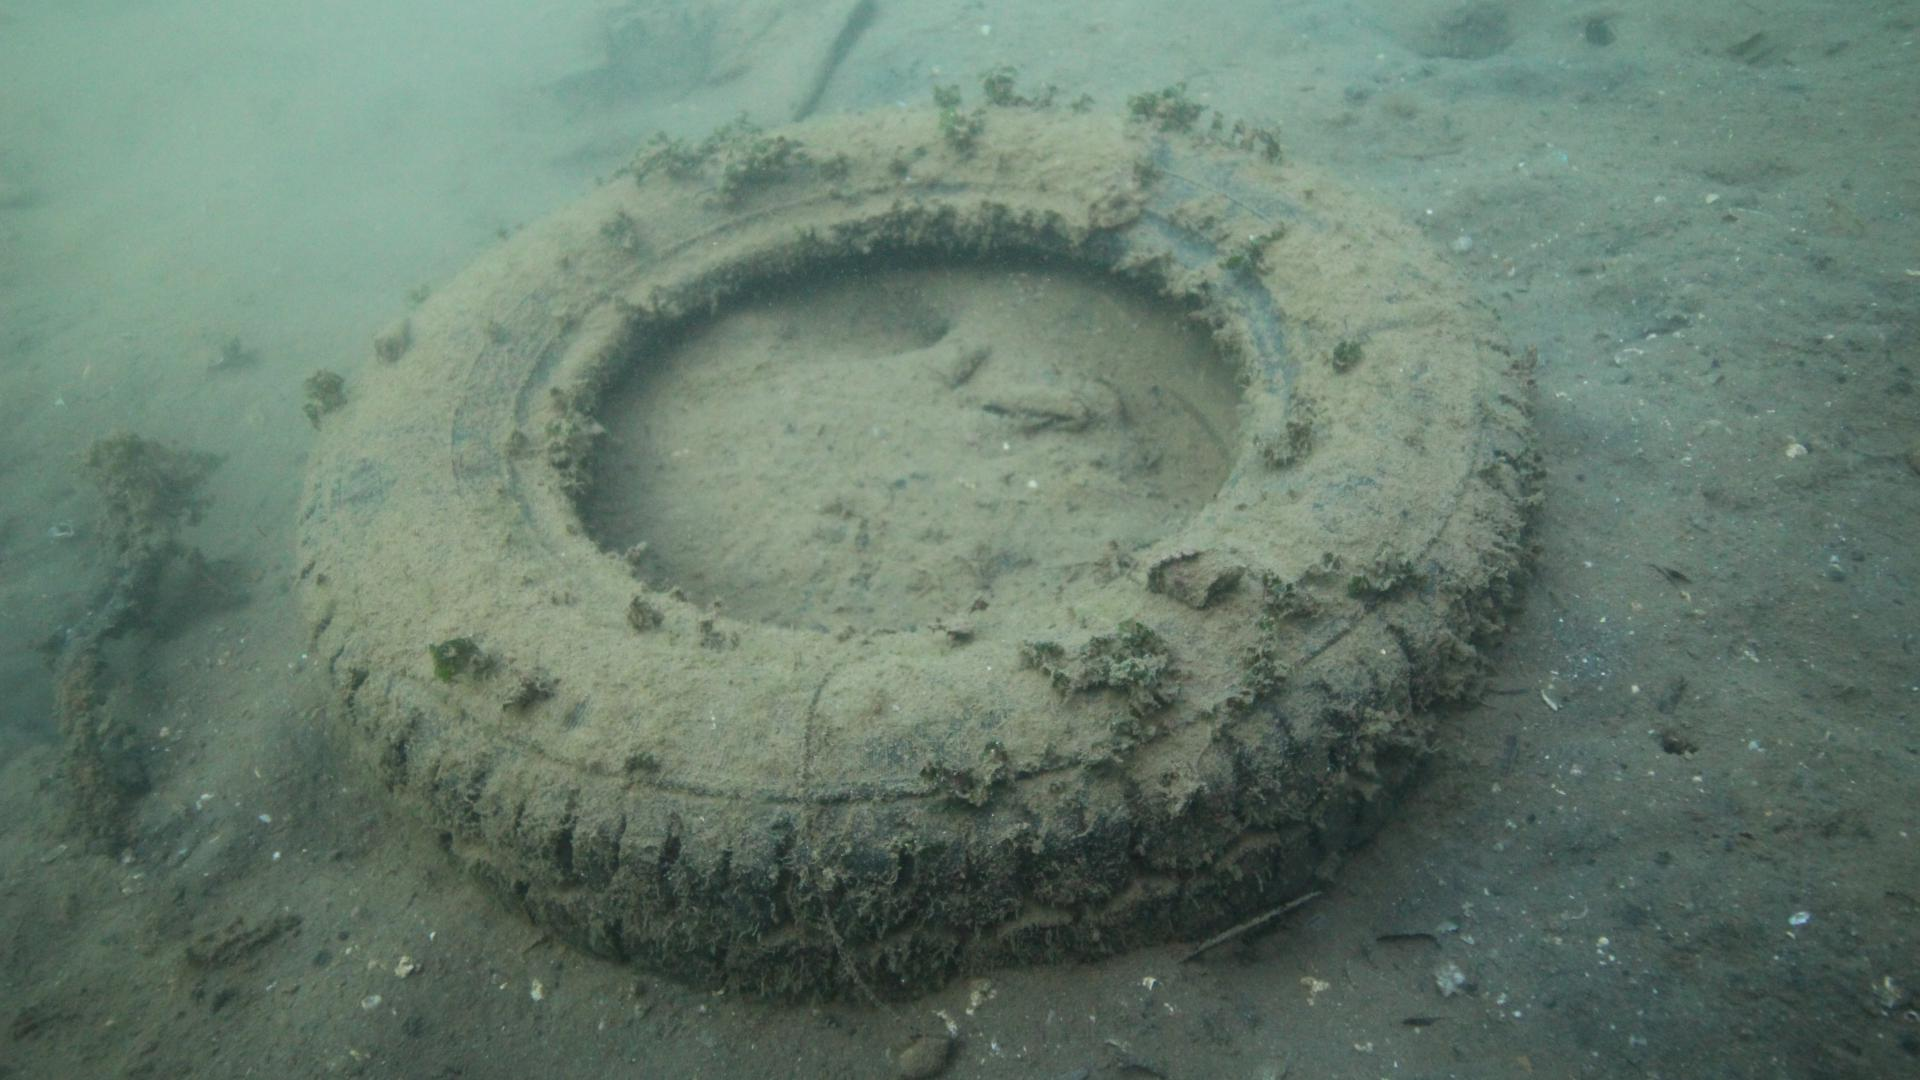tire: (291, 99, 1538, 1007)
